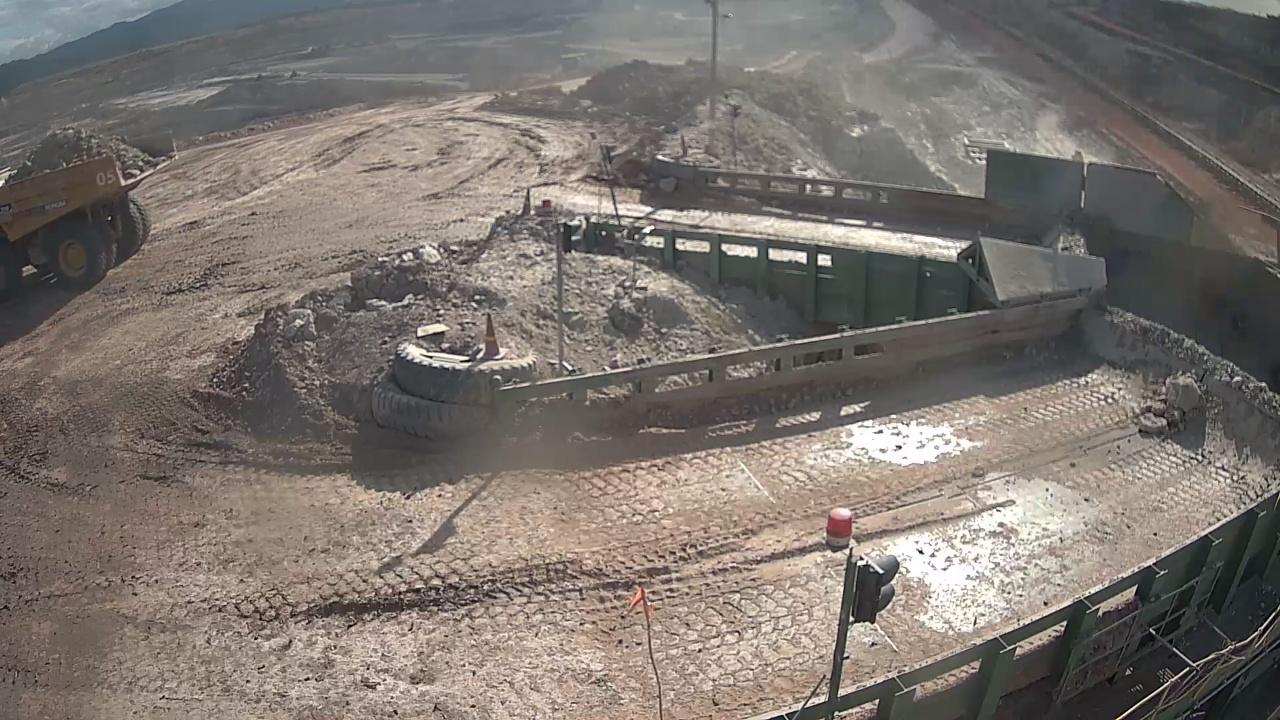mining_truck: (0, 149, 167, 298)
tail_number: (89, 163, 120, 190)
